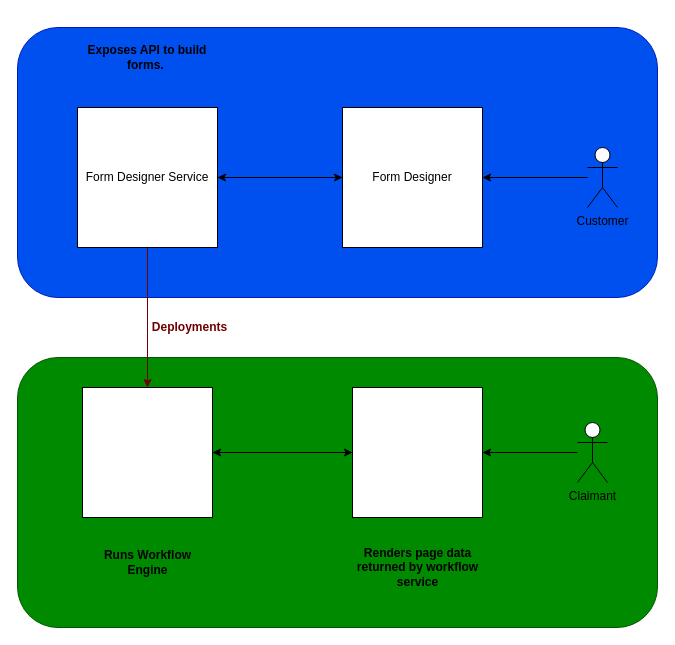
The diagram is 675 pixels wide and 645 high, and some of its shapes have lost their labels. Here are the shapes that lost their labels. From the top down, the centre of each, then its label:
point (147, 452): Workflow Service
point (417, 452): Form
